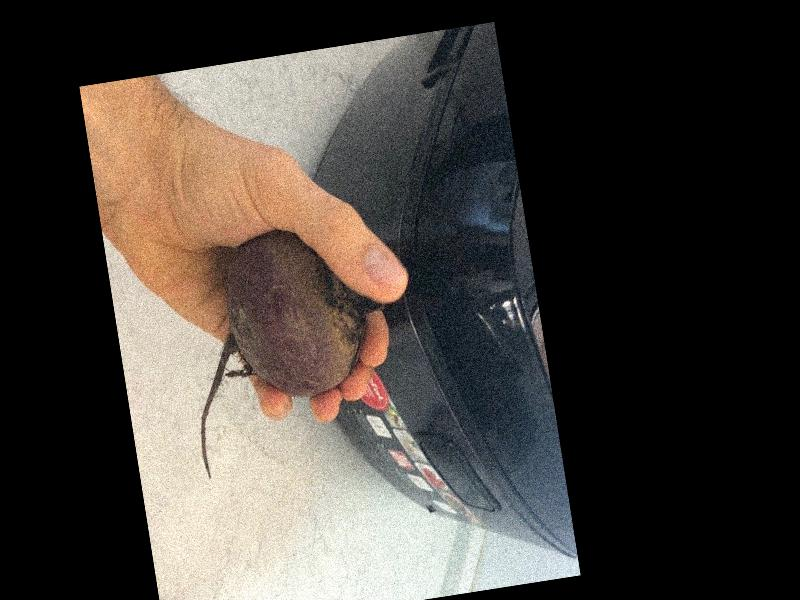Beet: (170, 217, 404, 479)
